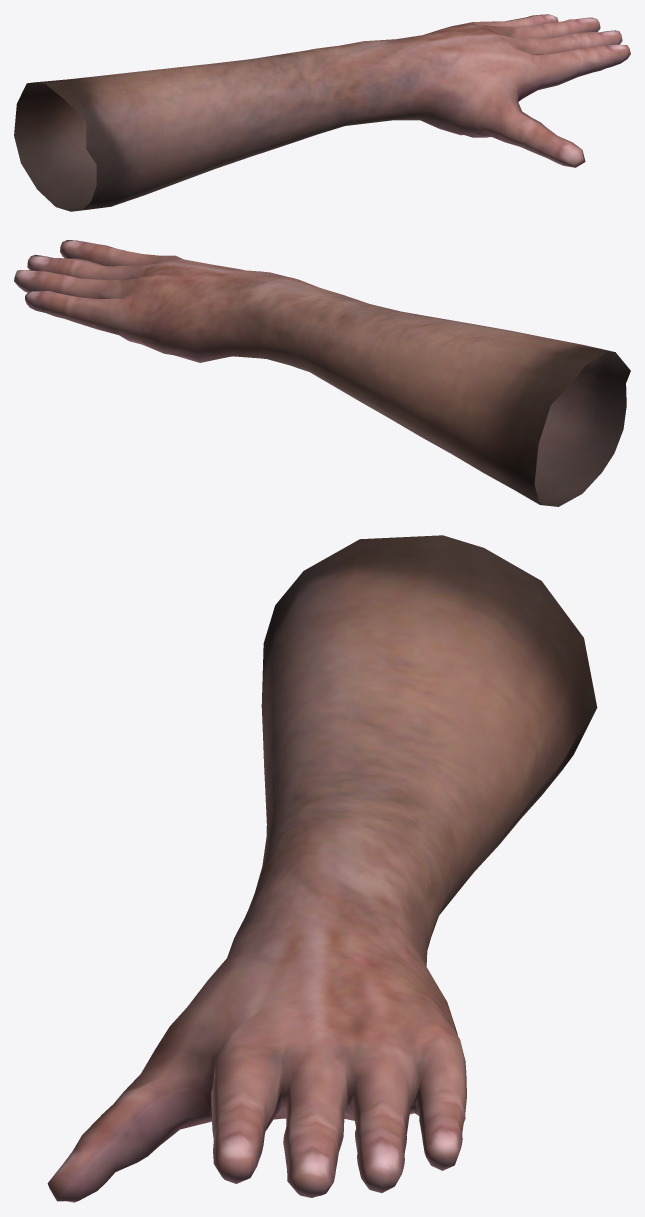
The model's file is Uth_Arm_Lt_MshShape.obj.
3 renders of one model, top to bottom at view 1: azimuth 30°, elevation 25°; view 2: azimuth 150°, elevation 25°; view 3: azimuth 270°, elevation 25°, orthographic. The views are drawn at different scales.
Visible parts, largest first — view 1: Uth_Arm_Lt_Msh Uth_Body_Grp SkinnedMesh Mesh CharacterRoot; view 2: Uth_Arm_Lt_Msh Uth_Body_Grp SkinnedMesh Mesh CharacterRoot; view 3: Uth_Arm_Lt_Msh Uth_Body_Grp SkinnedMesh Mesh CharacterRoot.
Part boxes in pixels (x1,y1,x2,y2): Uth_Arm_Lt_Msh Uth_Body_Grp SkinnedMesh Mesh CharacterRoot: (14, 14, 630, 211); Uth_Arm_Lt_Msh Uth_Body_Grp SkinnedMesh Mesh CharacterRoot: (14, 240, 630, 506); Uth_Arm_Lt_Msh Uth_Body_Grp SkinnedMesh Mesh CharacterRoot: (47, 535, 597, 1202).
Bounding box in the file's own units: 49.89 × 10.73 × 21.88.
Materials: 1 (1 with a texture image).
